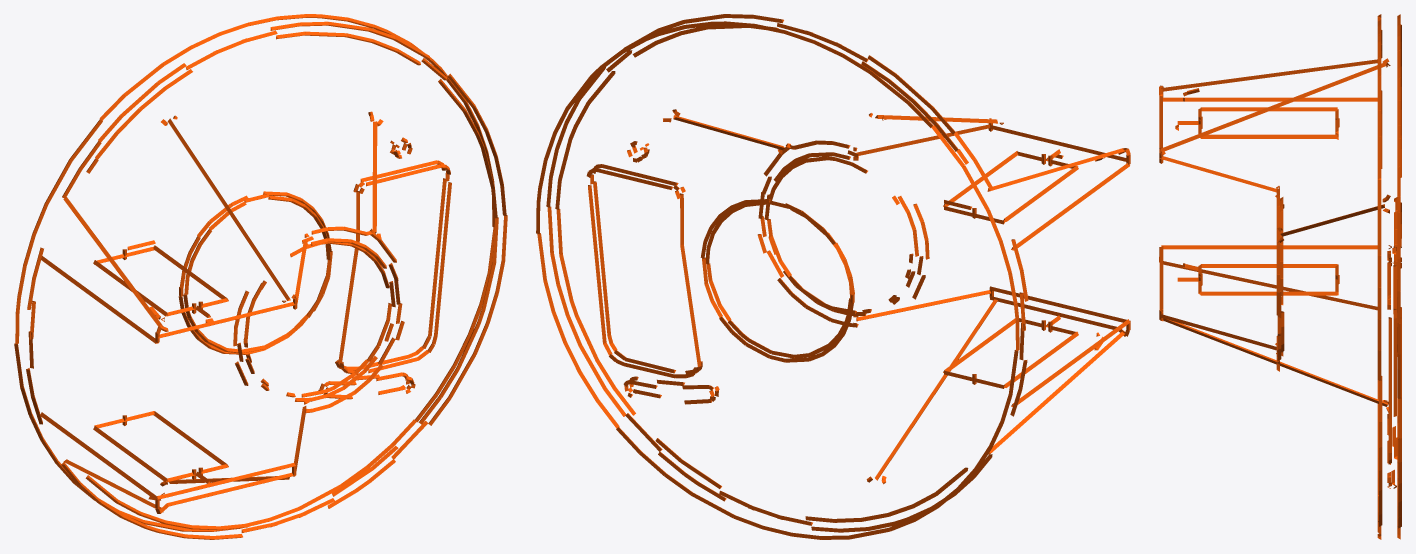
Rendered from VIS_INIT.obj.
3 views of the same model, side by side, from view 1: azimuth 30°, elevation 25°; view 2: azimuth 150°, elevation 25°; view 3: azimuth 270°, elevation 25° (orthographic). The views are drawn at different scales.
Size of the model in its own units: 16.11 by 16.11 by 7.44.
